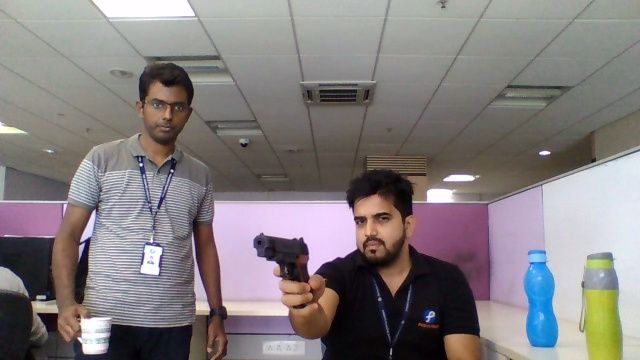gun: (252, 232, 312, 281)
